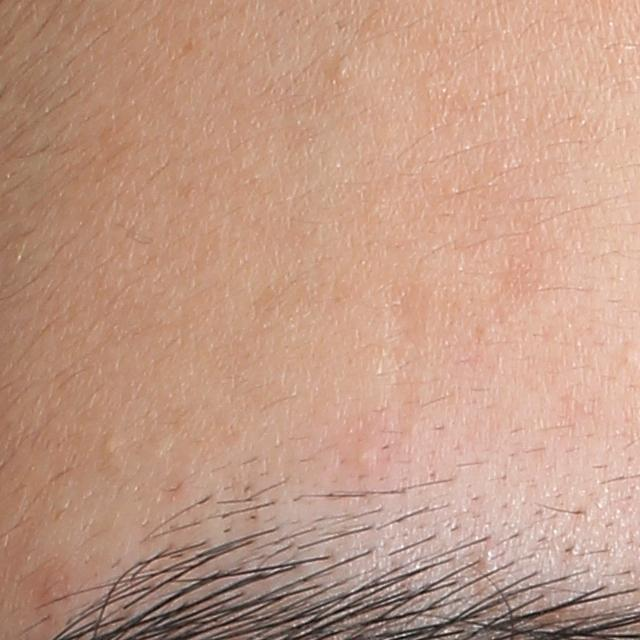comedo: (99, 433, 120, 461), (336, 59, 354, 82)
other: (387, 280, 438, 453)
